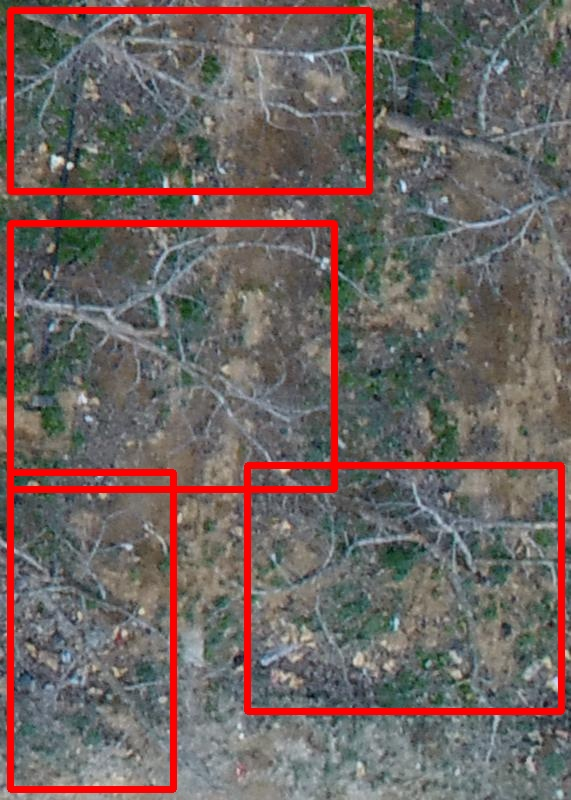apple: (10, 223, 334, 489), (247, 465, 561, 711), (10, 10, 369, 191), (10, 472, 173, 789)
